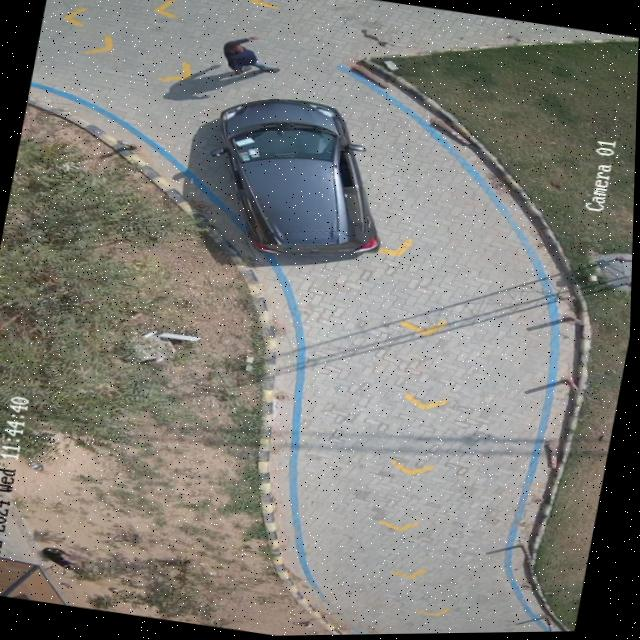car: (220, 98, 381, 256)
